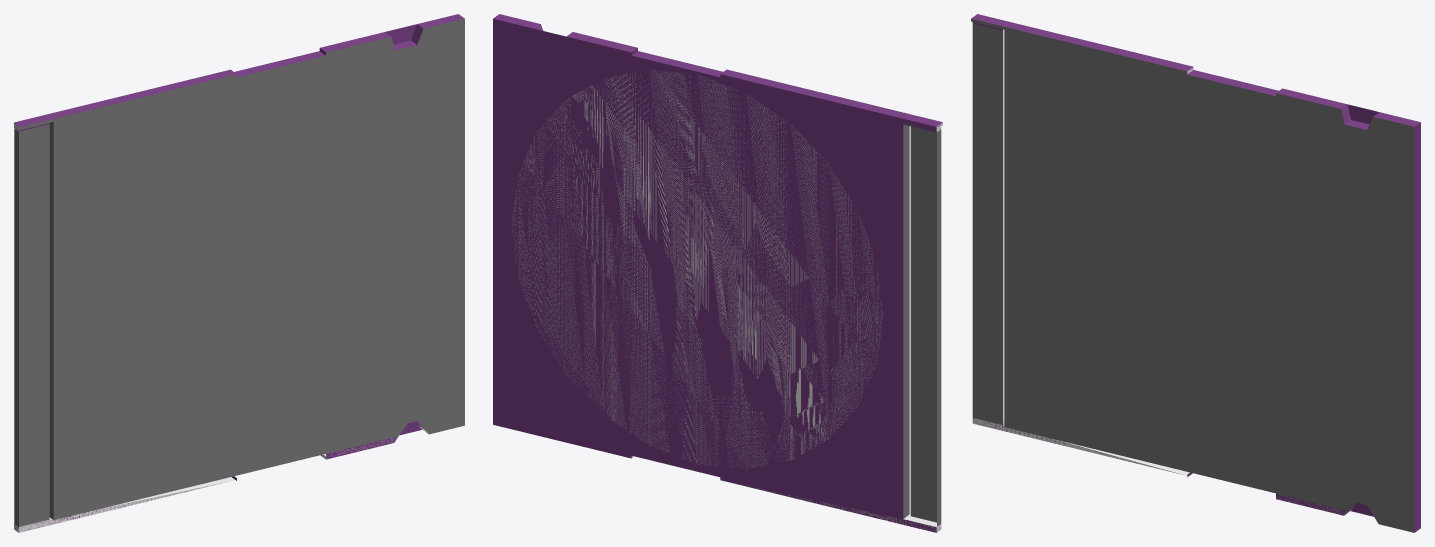
The picture shows the model from 3 angles, left to right: view 1: azimuth 30°, elevation 25°; view 2: azimuth 150°, elevation 25°; view 3: azimuth 330°, elevation 25°; orthographic projection.
Parts seen in each view (by area): view 1: cd; view 2: cd; view 3: cd.
Part boxes in pixels (bbox=[...]): cd: bbox=[14, 14, 464, 532]; cd: bbox=[493, 14, 942, 532]; cd: bbox=[971, 14, 1420, 532].
Bounding box in the file's own units: 6.3 × 5.51 × 0.1575.
